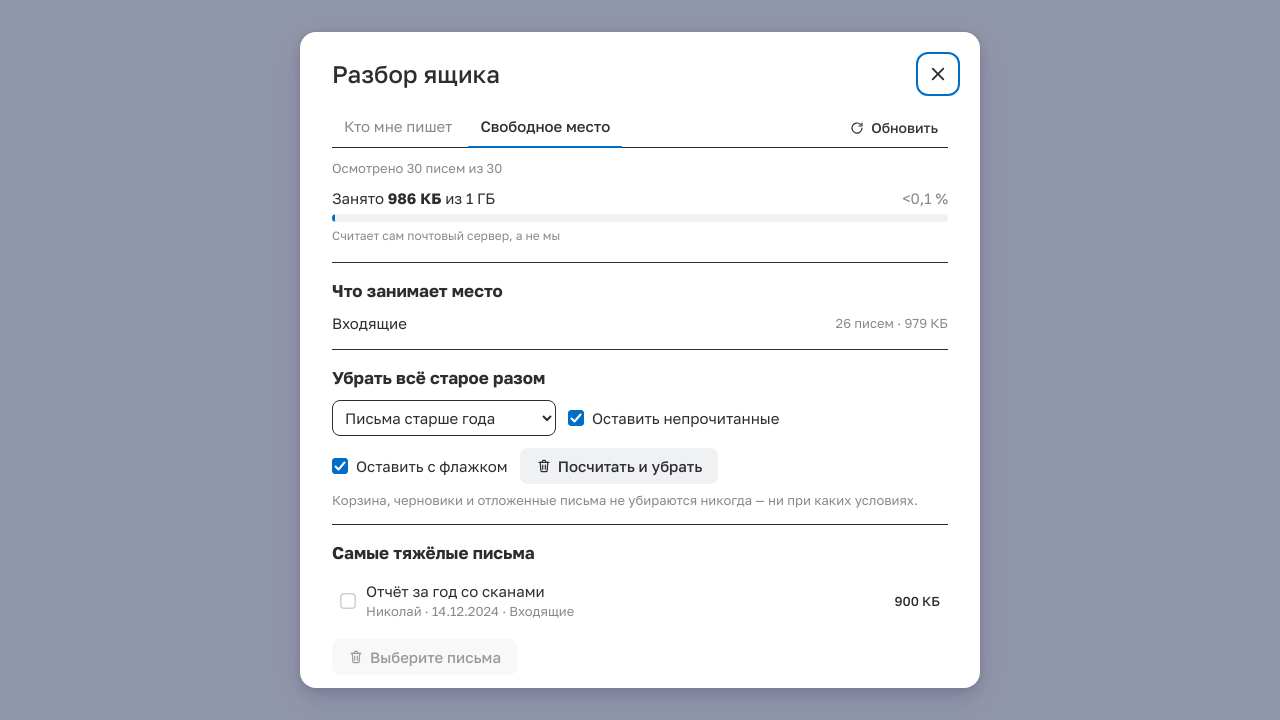
свободное место › кнопка удаления тяжёлых писем называет число и место до нажатия
Check: the button "Выберите письма" is shown, box [332,639,517,675]
What coordinates should you click on to do the following:
click the 3rd checkbox
I would click on:
 (348, 601)
Its box is [340,593,356,609].
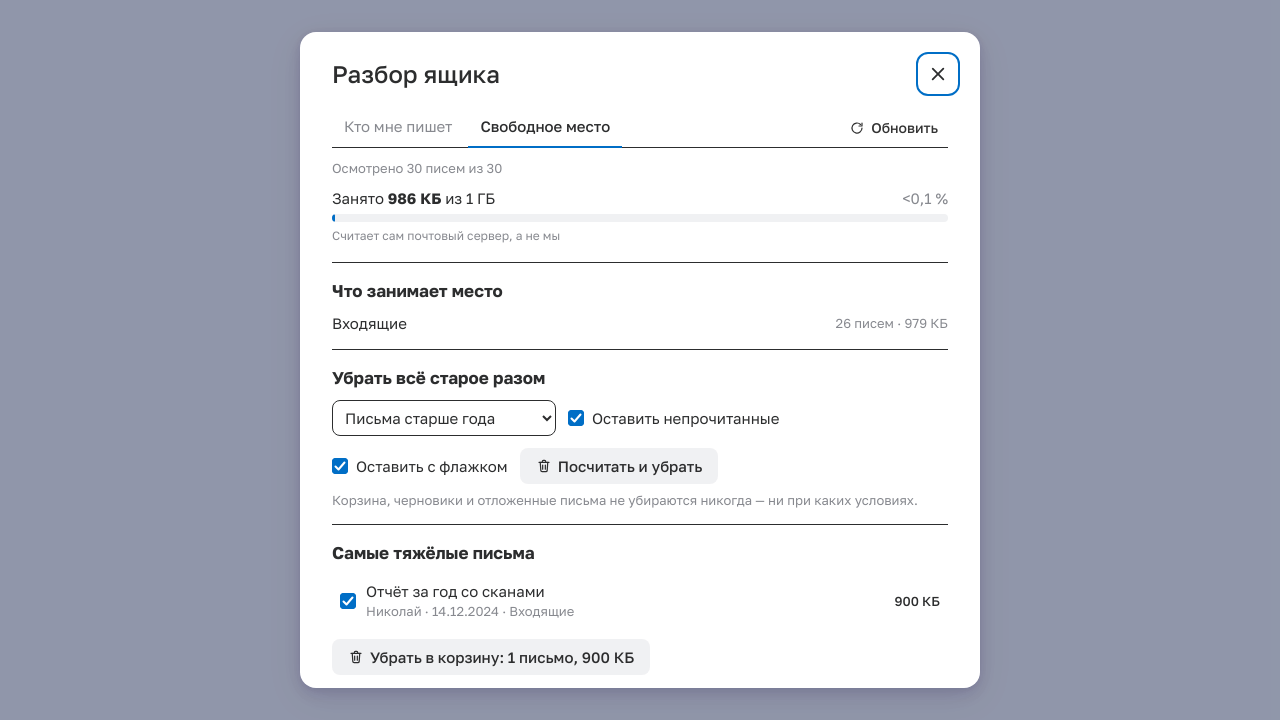
Check: the button "Убрать в корзину: 1 письмо, 900 КБ" is shown, box [332,639,650,675]
